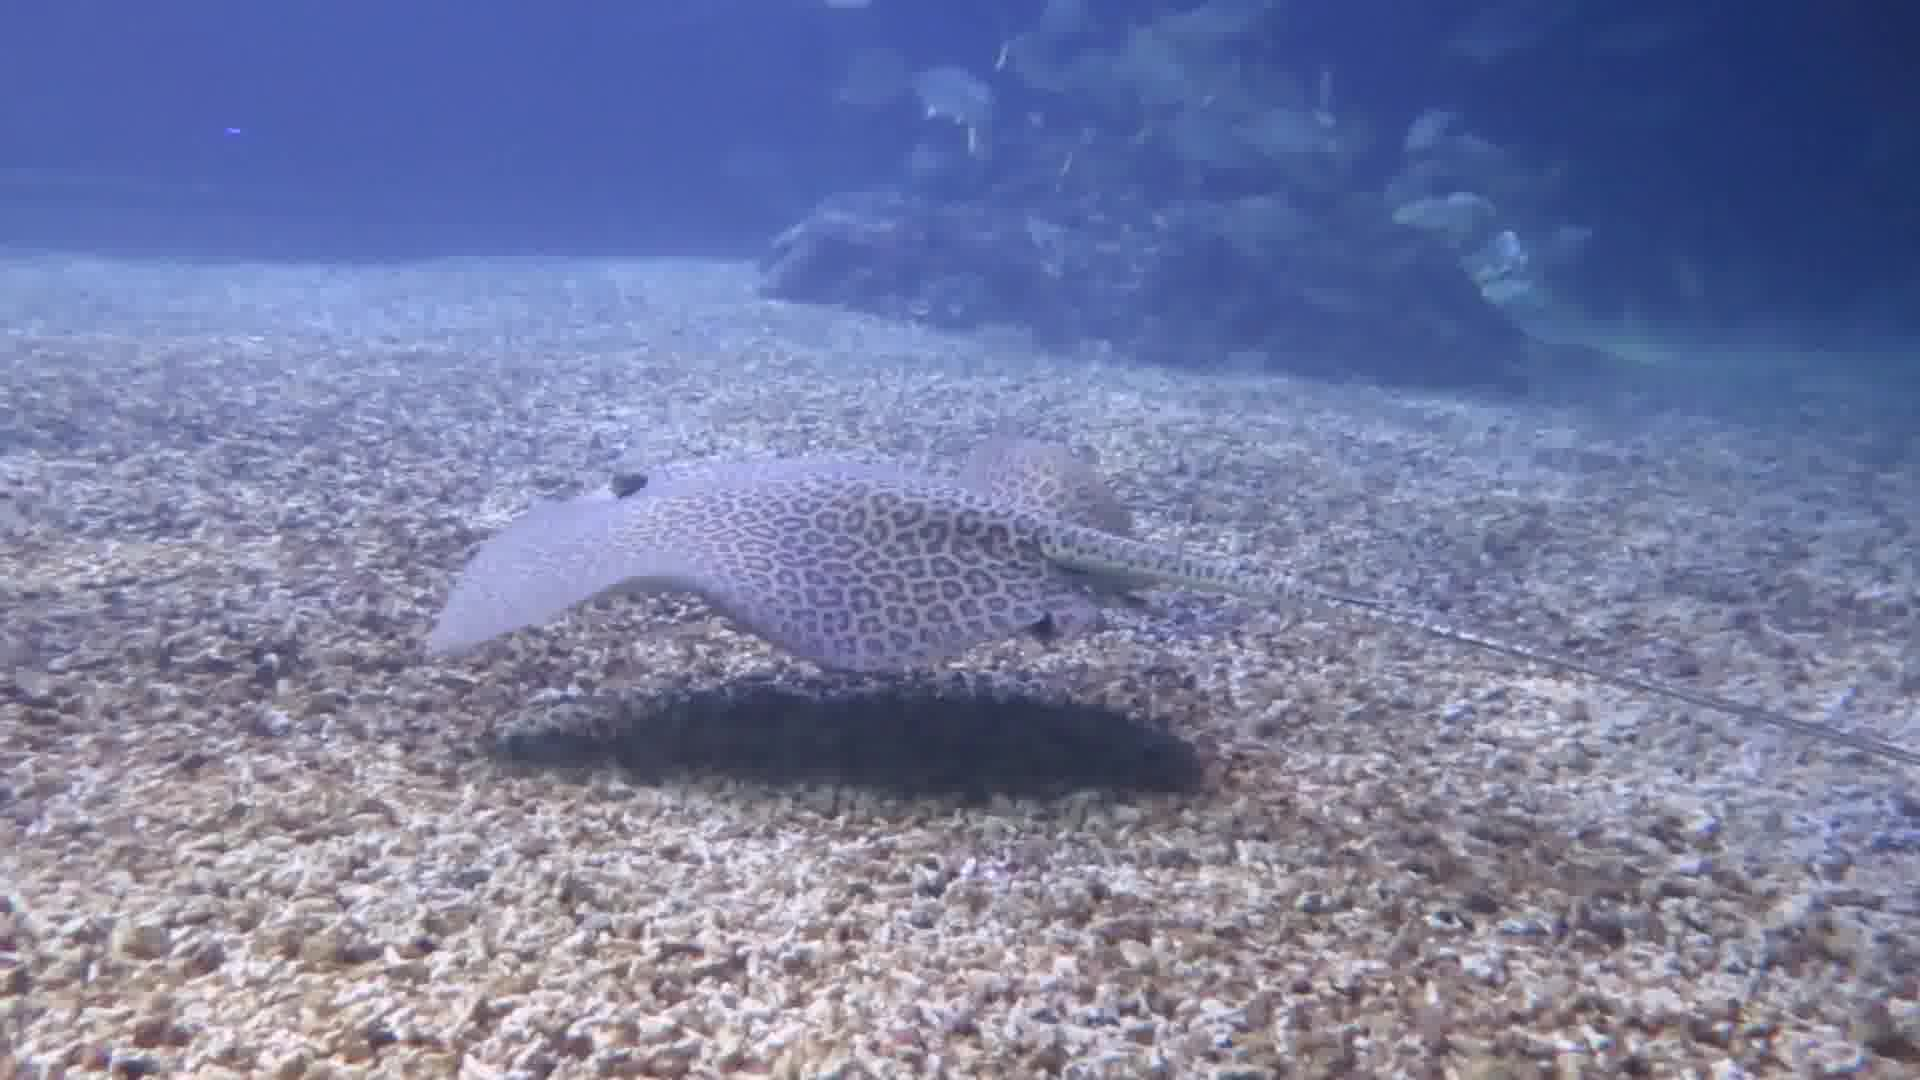Himantura uarnak: (405, 344, 1920, 866)
